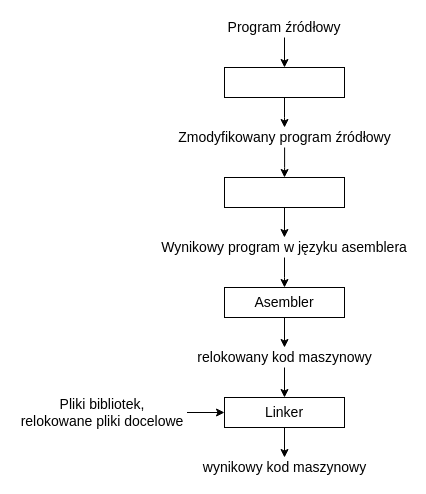
This 426x494 diagram has some shape labels left out. Each missing label, with the box of its shape:
Kompilator: (224, 176, 344, 208)
Preprocesor: (224, 66, 344, 98)
